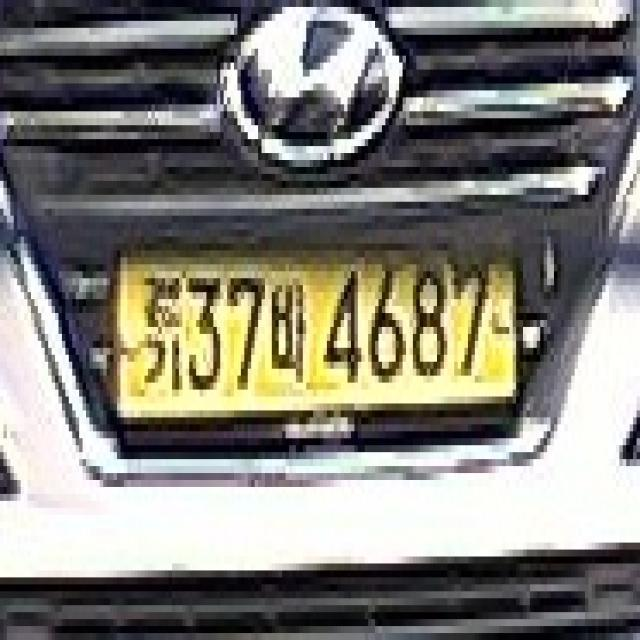plat: (107, 238, 529, 441)
